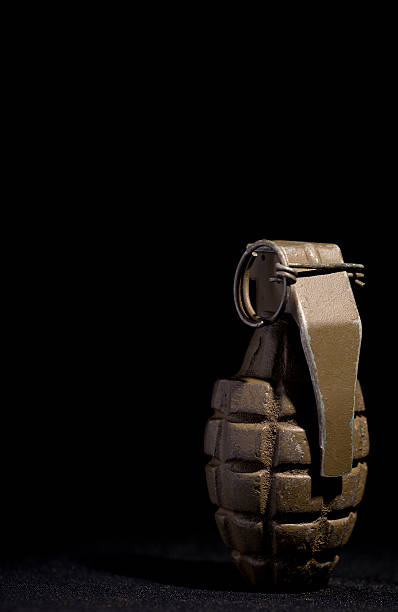e1: (196, 241, 372, 582)
